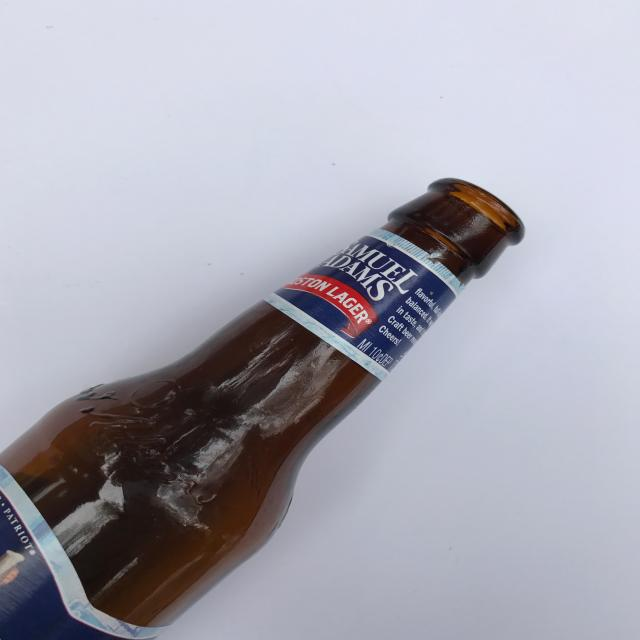glass: (0, 176, 525, 640)
